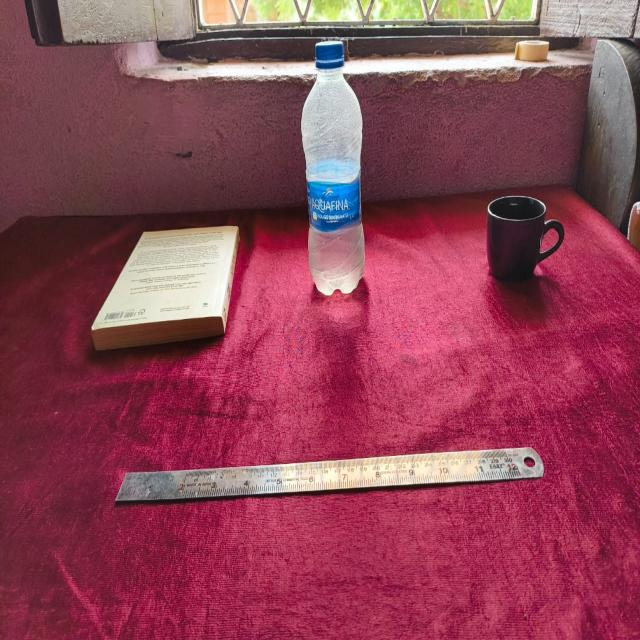Book: (87, 209, 242, 342)
Bottle: (294, 45, 369, 295)
Cup: (481, 192, 563, 284)
scale: (115, 446, 545, 500)
